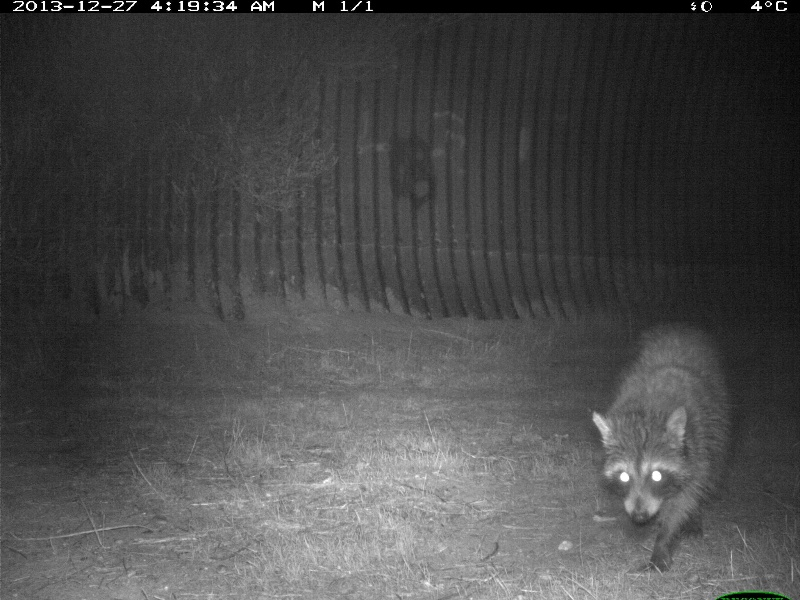raccoon: (586, 316, 736, 576)
